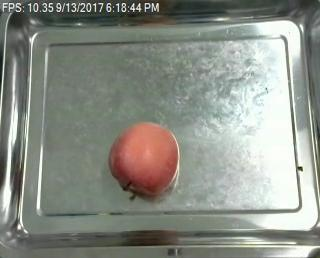apple: (108, 122, 180, 199)
